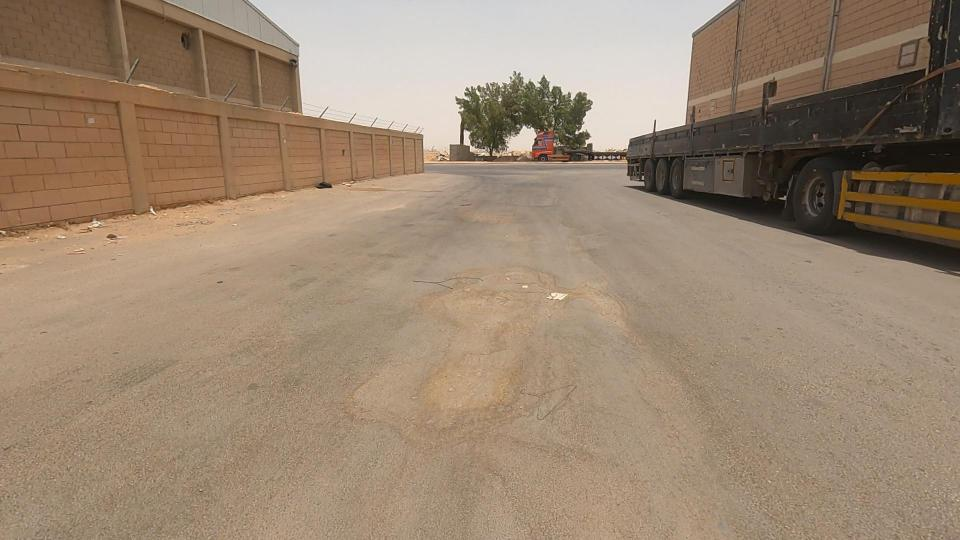GARBAGE: (13, 170, 170, 289), (268, 137, 405, 222), (104, 166, 209, 253), (516, 254, 607, 342)
POTHOLES: (345, 271, 582, 486), (383, 229, 582, 330)
